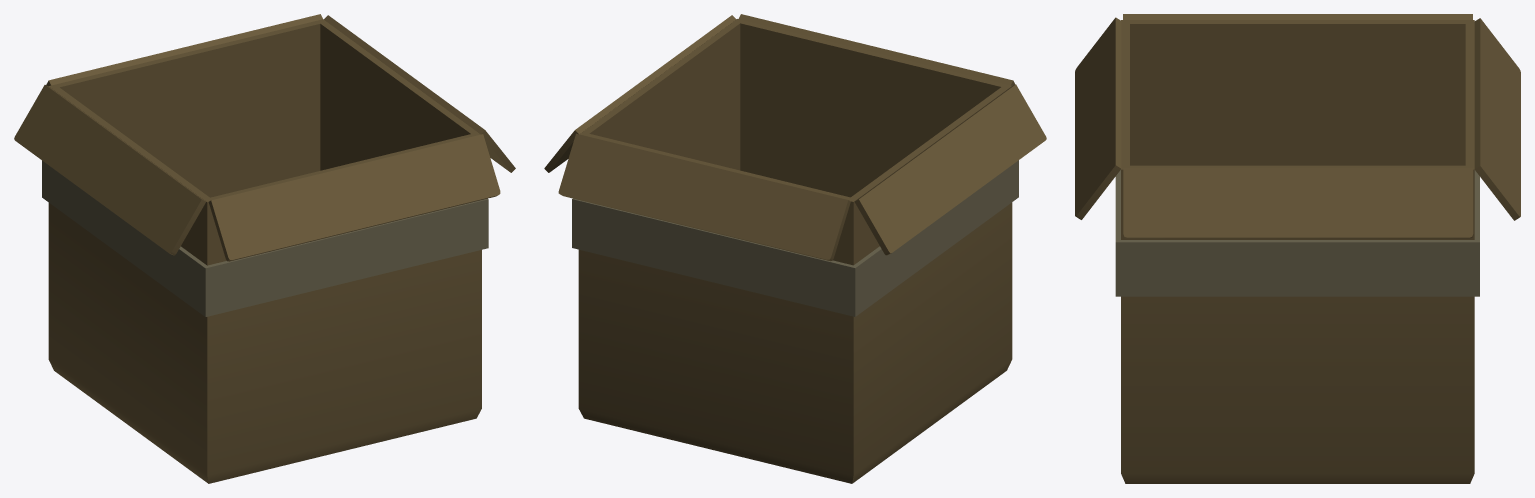
Rendered from L_Winning_ISD1_BoxNew.fbx.
3 views of the same model, side by side, from view 1: azimuth 30°, elevation 25°; view 2: azimuth 150°, elevation 25°; view 3: azimuth 270°, elevation 25° (orthographic). The views are drawn at different scales.
Parts seen in each view (by area): view 1: box base, box flap 3, box flap 1, box flap 4, box flap 2; view 2: box base, box flap 2, box flap 1, box flap 4, box flap 3; view 3: box base, box flap 4, box flap 2, box flap 3, box flap 1.
Part boxes in pixels (x1,y1,x2,y2): box base: (42,19,488,483); box flap 3: (208,134,500,261); box flap 1: (14,85,205,255); box flap 4: (324,15,515,172); box flap 2: (46,14,322,86); box base: (572,19,1018,483); box flap 2: (558,133,850,261); box flap 1: (854,84,1046,255); box flap 4: (544,15,736,172); box flap 3: (738,14,1015,85); box base: (1115,20,1479,483); box flap 4: (1123,168,1473,238); box flap 2: (1474,18,1520,220); box flap 3: (1075,17,1121,219); box flap 1: (1123,14,1472,19).
Bounding box in the file's own units: 252 × 202 × 252.
